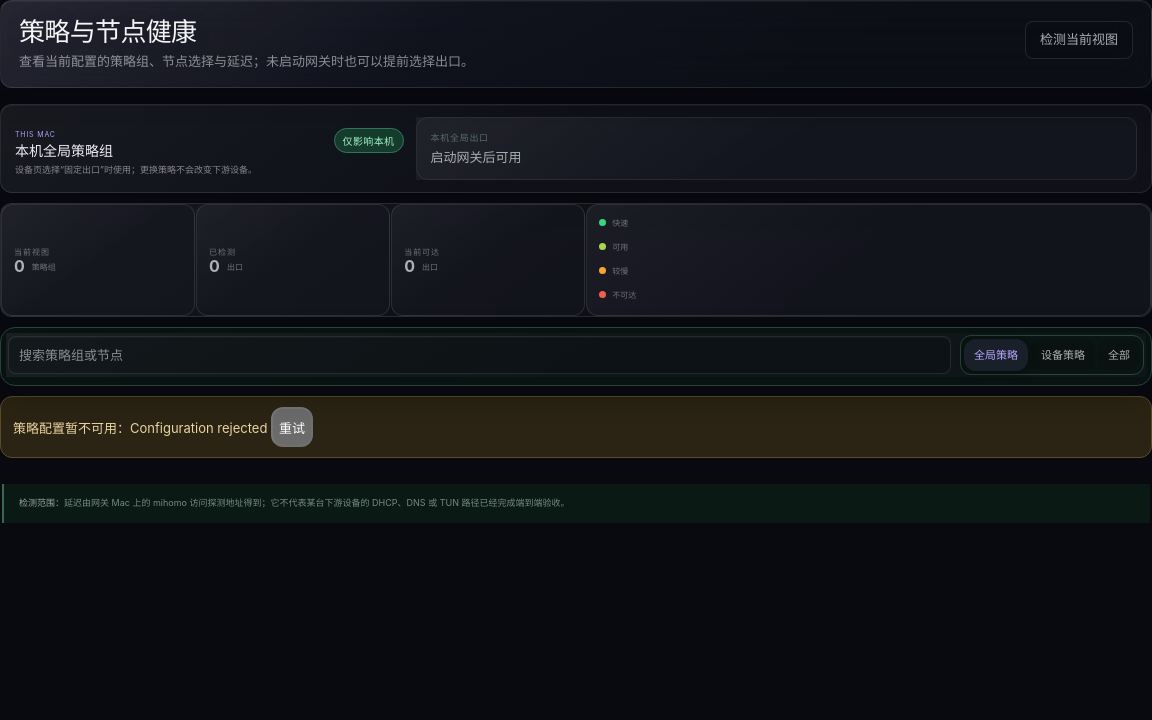
PoliciesPage › shows a preparation failure and retries only the read action
Click the button "重试" at {"x": 292, "y": 427}, box [271,407,313,447]
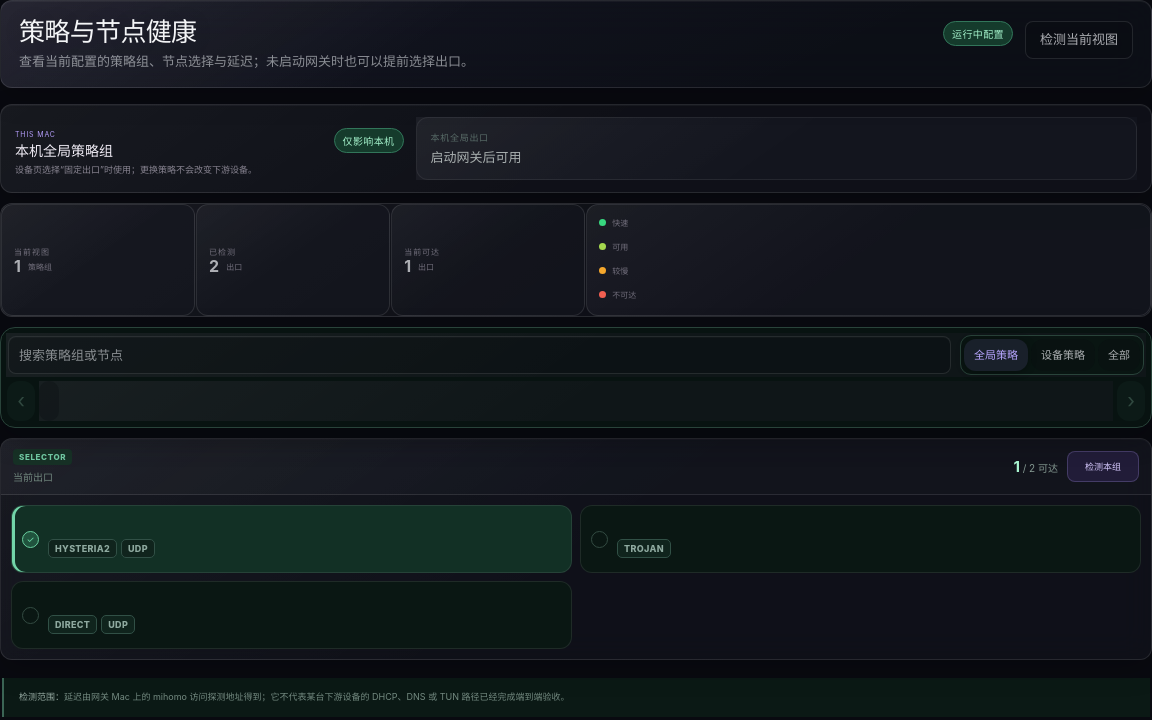
Expected: the message "策略配置暂不可用：Configuration rejected 重试" is gone
